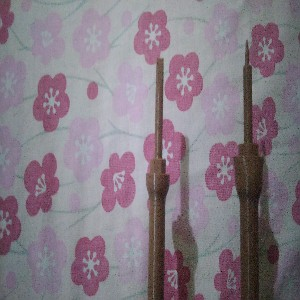obeng: (145, 57, 170, 300)
solder: (232, 38, 265, 300)
